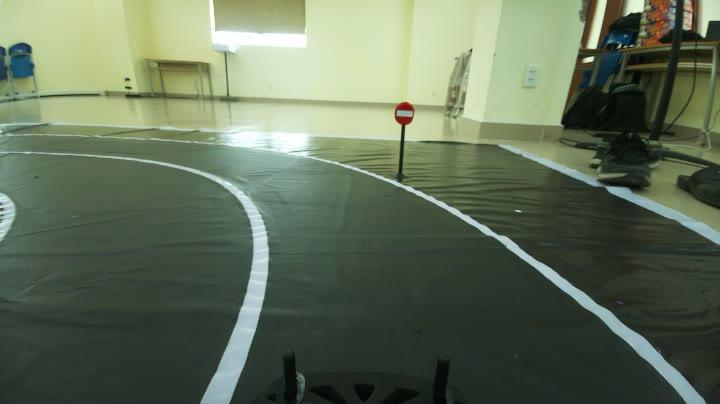no_entry: (383, 102, 426, 126)
